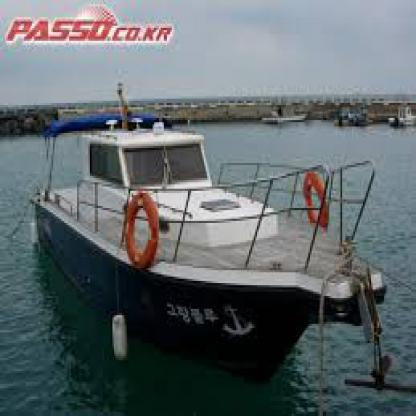fish-b: (32, 86, 398, 396)
